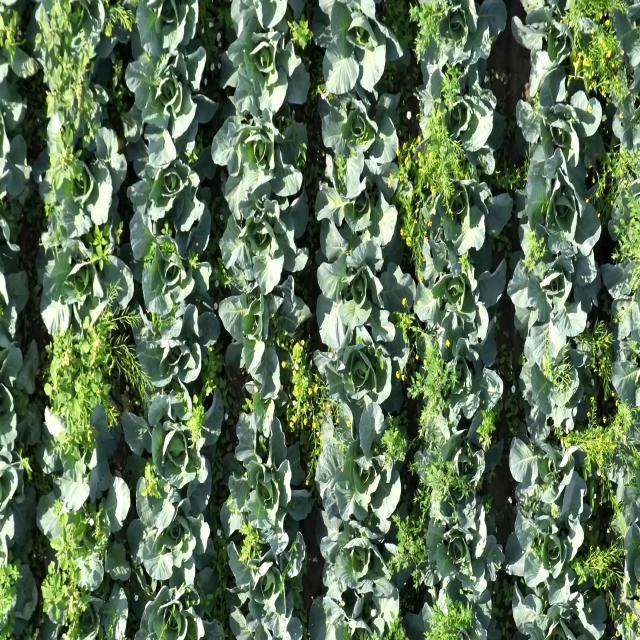holes: (122, 376, 225, 492), (411, 240, 505, 350), (319, 516, 403, 604), (610, 66, 640, 178)
